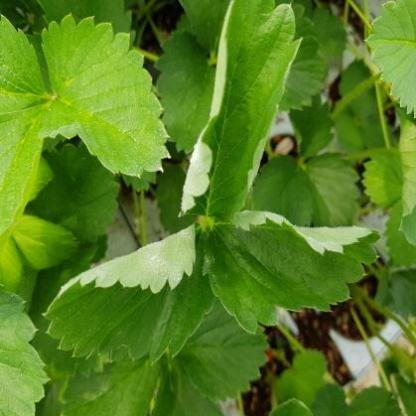Strawberry_Powdery_Mildew_Leaf: (180, 0, 304, 222), (41, 222, 218, 366), (202, 209, 382, 335)
